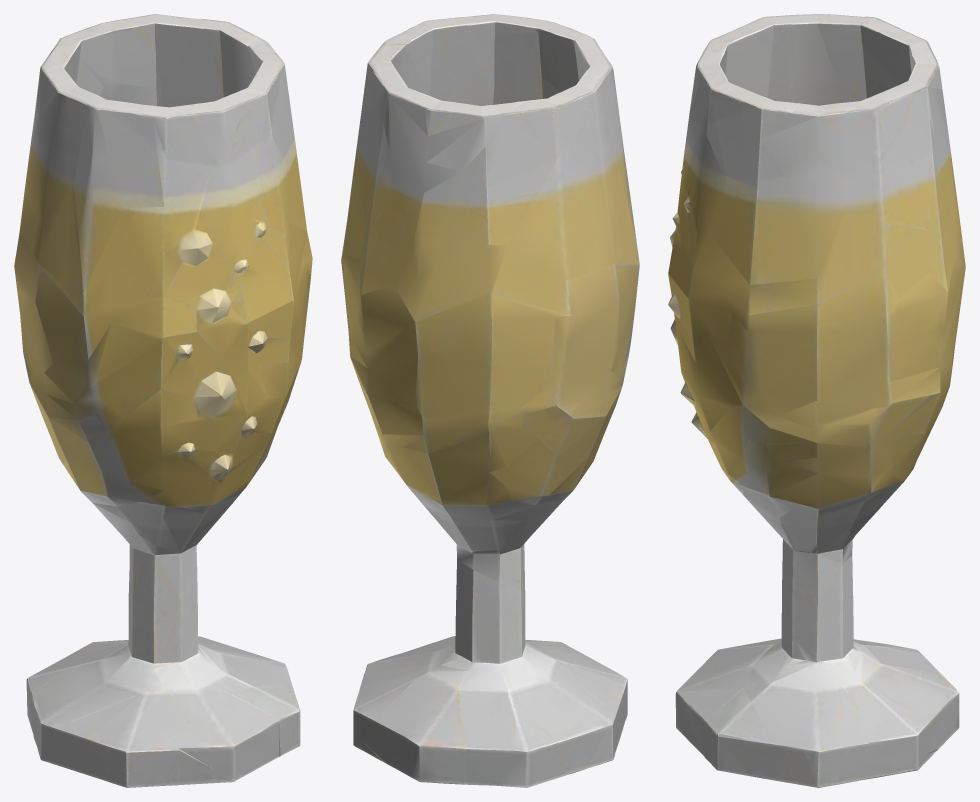
Rendered from glass.glb.
The picture shows the model from 3 angles, left to right: view 1: azimuth 30°, elevation 25°; view 2: azimuth 150°, elevation 25°; view 3: azimuth 270°, elevation 25°; orthographic projection.
Parts seen in each view (by area): view 1: Mesh_0; view 2: Mesh_0; view 3: Mesh_0.
Boxes of the visible parts, bbox=[...] form: Mesh_0: bbox=[14, 14, 312, 787]; Mesh_0: bbox=[341, 14, 639, 787]; Mesh_0: bbox=[668, 14, 965, 787].
Size of the model in its own units: 0.8072 by 2 by 0.8099.
Materials: 1 (1 with a texture image).
